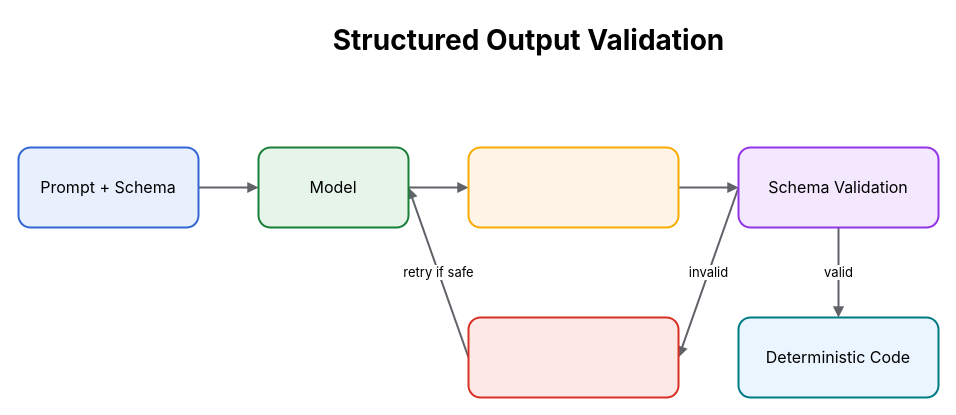
The diagram is 956 pixels wide and 415 high, and some of its shapes have lost their labels. Each missing label, with the centre of its shape:
JSON / Typed Output: pixel 573 187
Repair or Refuse: pixel 573 357
